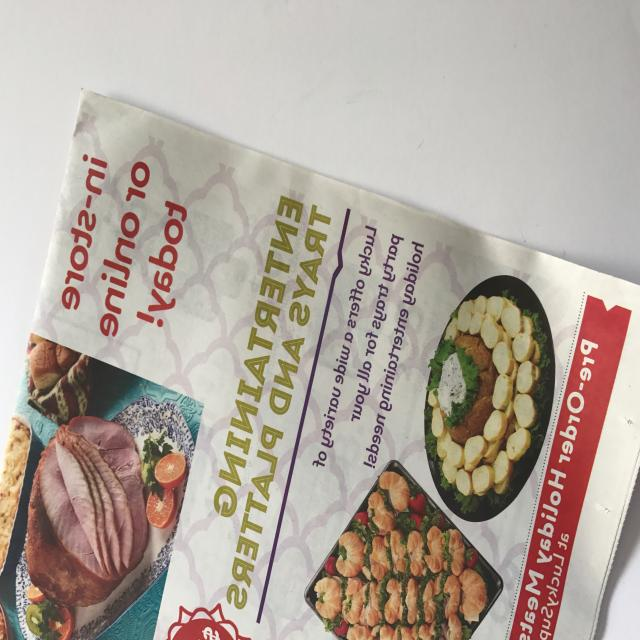paper: (0, 77, 640, 640)
